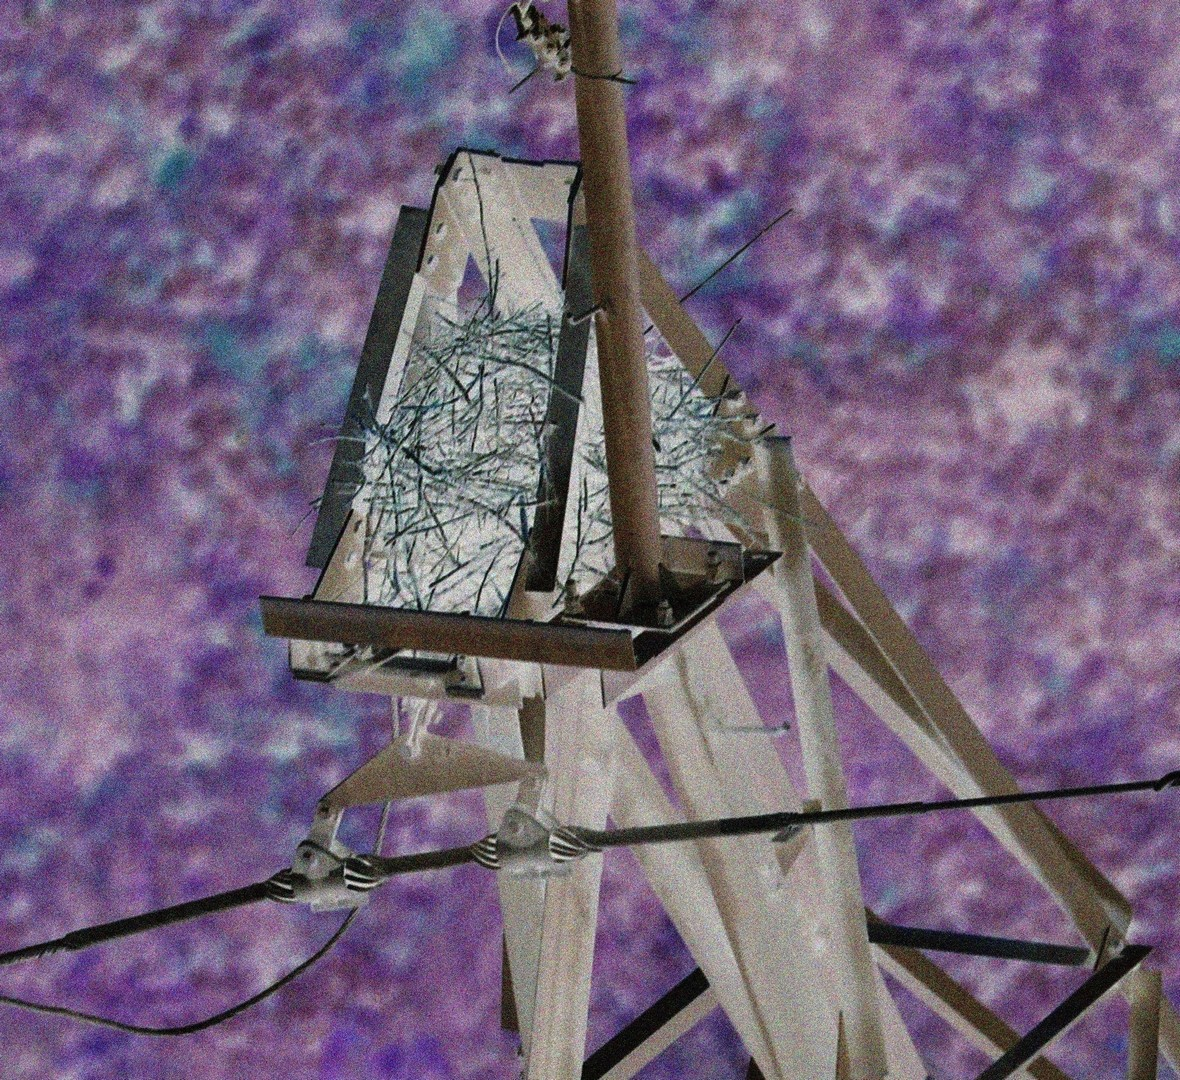niaowo: (300, 284, 732, 646)
